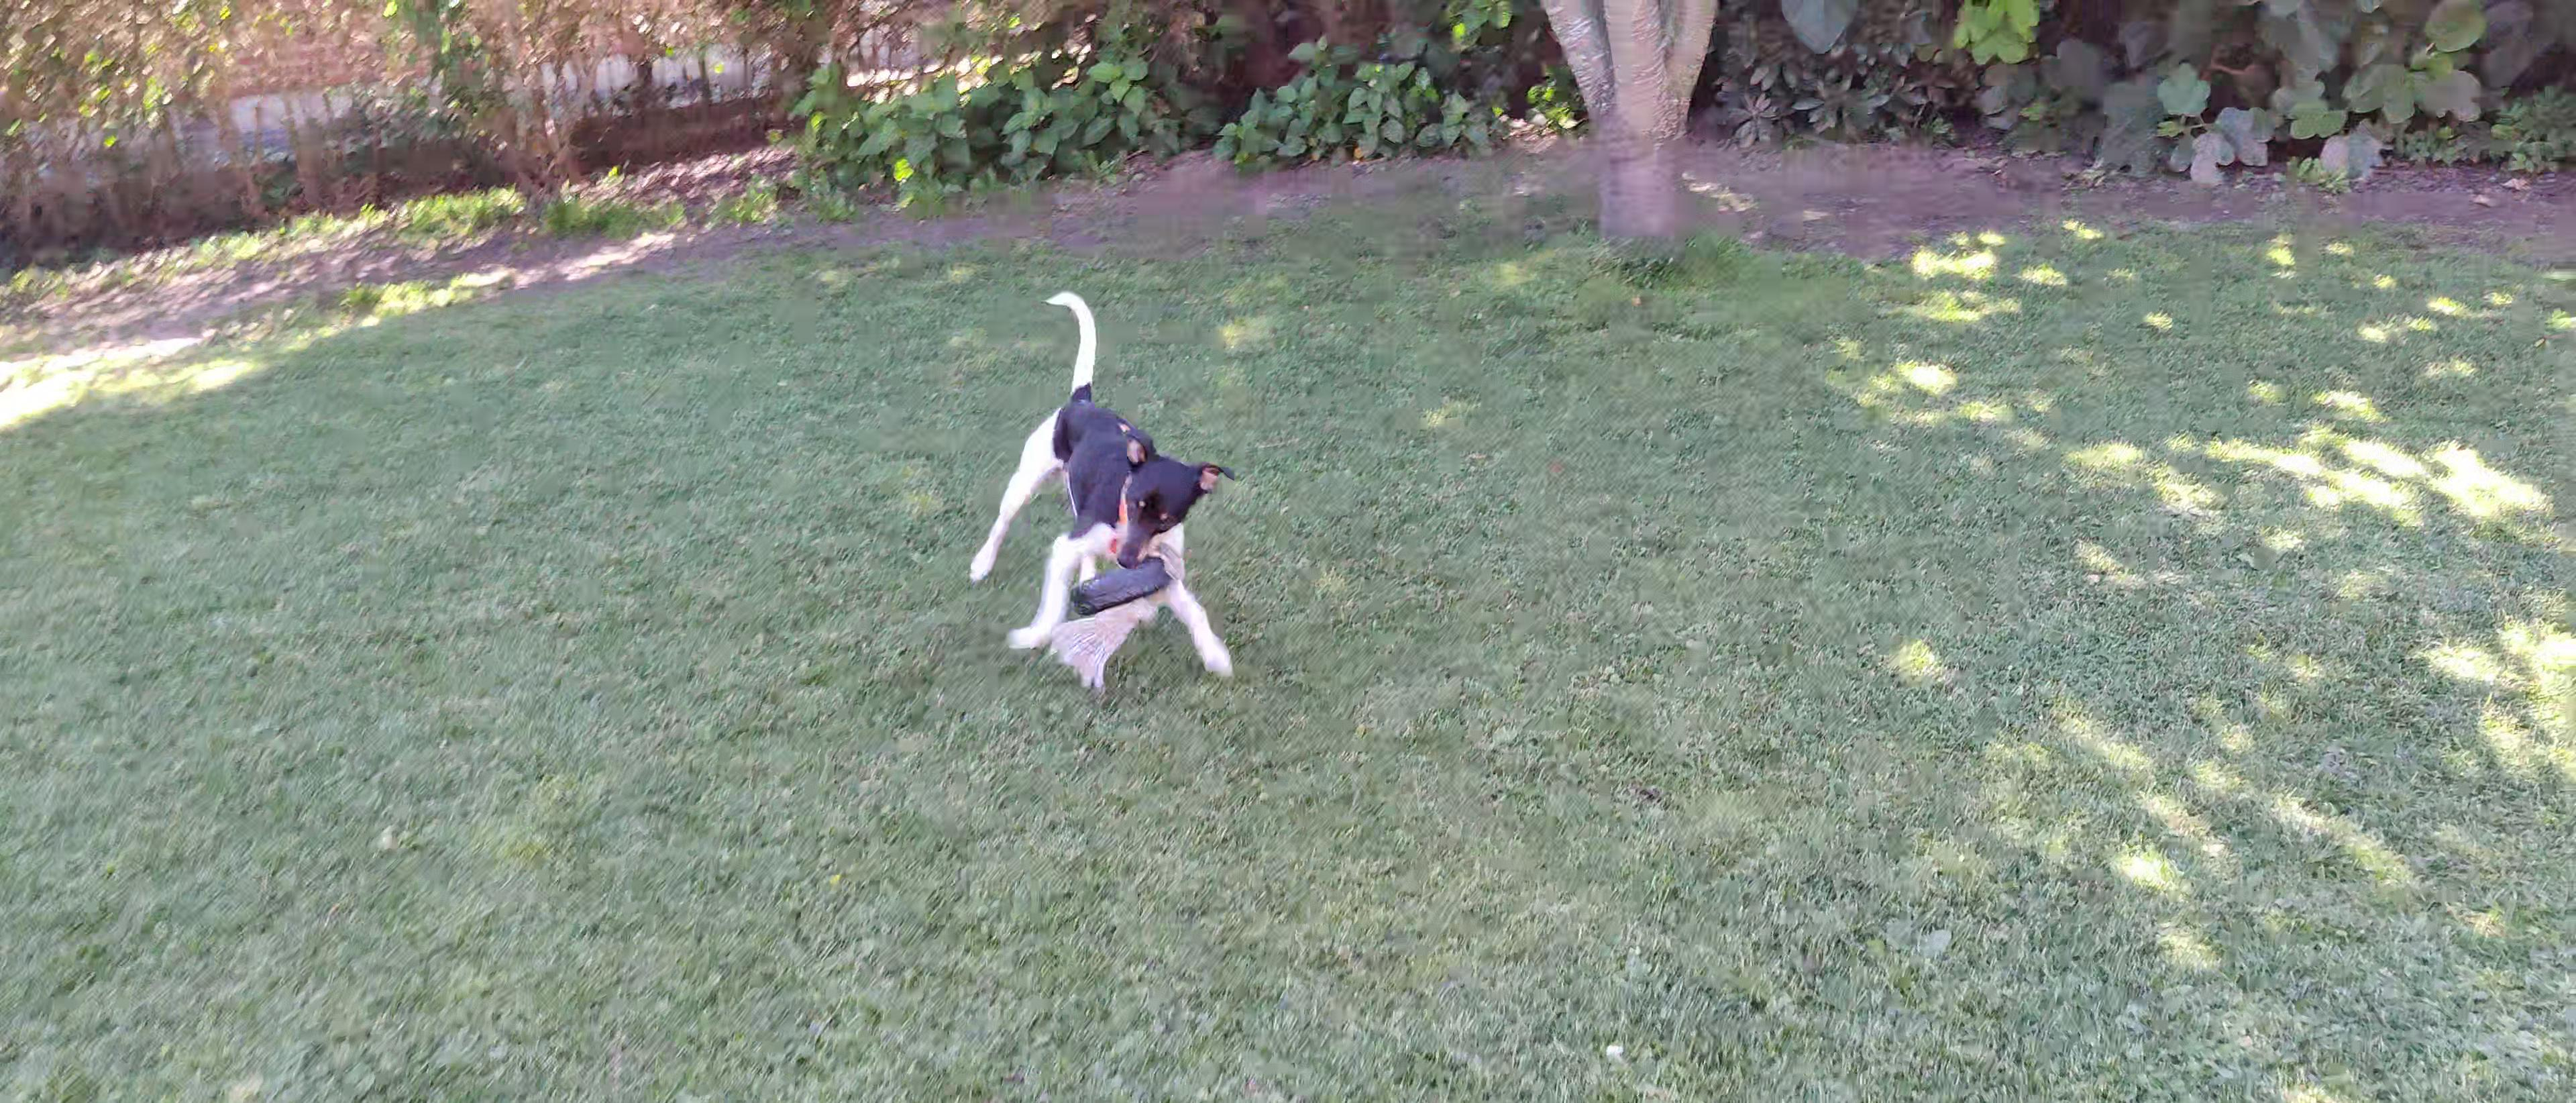Dog: (933, 276, 1258, 684)
